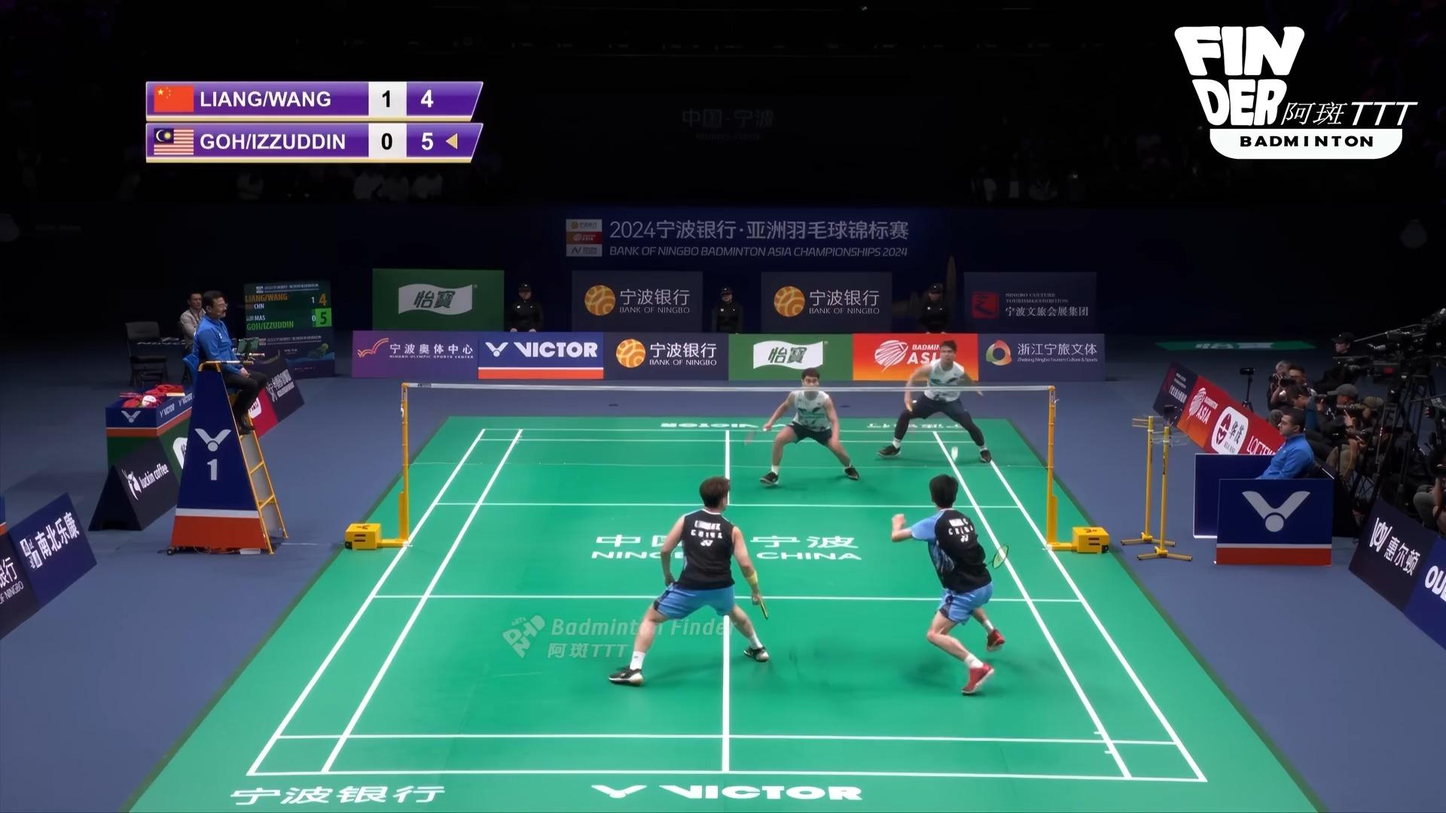player: (609, 477, 769, 687), (891, 475, 1005, 696), (879, 339, 994, 463), (760, 368, 860, 486)
shuttlecock: (950, 446, 960, 460)
